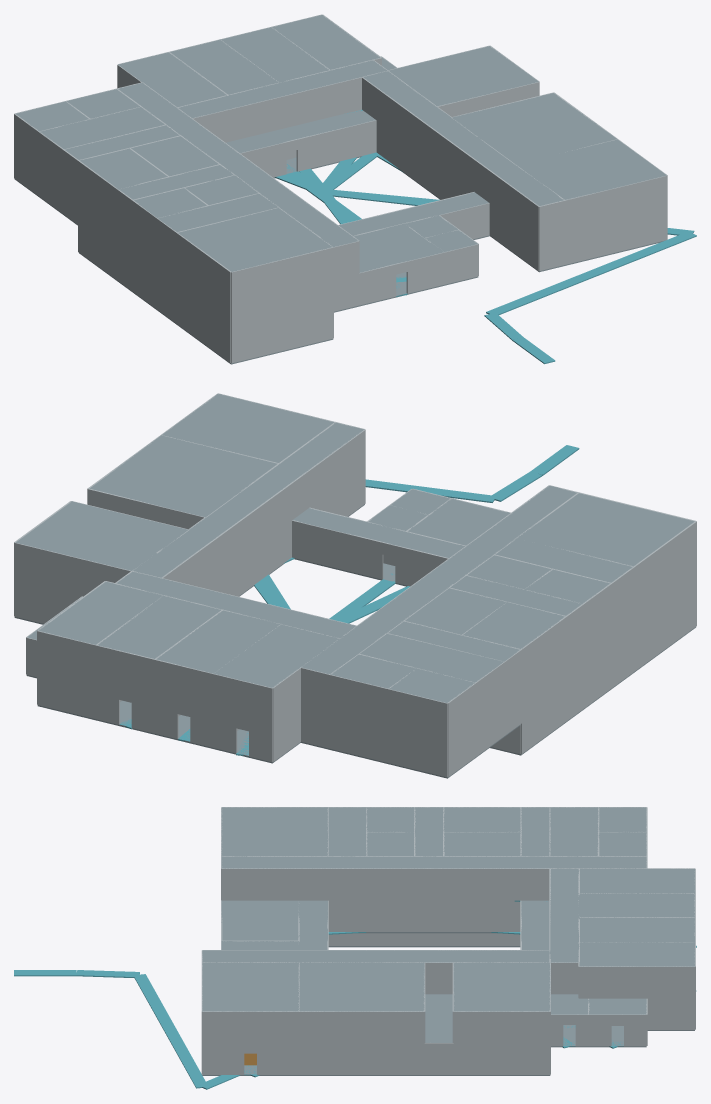
File: academy-open-context.glb
The picture shows the model from 3 angles, top to bottom: view 1: azimuth 30°, elevation 25°; view 2: azimuth 150°, elevation 25°; view 3: azimuth 270°, elevation 25°; orthographic projection. The views are drawn at different scales.
Visible parts, largest first — view 1: Ceiling cap study, Wall upper-east W, Ceiling cap upper-west, Ceiling cap upper-main-stair, Wall upper-north S, Ceiling cap upper-east-stair, Ceiling cap restricted, Ceiling cap upper-east, Wall upper-main-stair S, Wall upper-east-stair S, Wall east-stair S, Wall main-stair S (+50 smaller); view 2: Ceiling cap study, Wall upper-east W, Ceiling cap upper-west, Ceiling cap upper-main-stair, Ceiling cap restricted, Ceiling cap upper-east-stair, Ceiling cap upper-east, Ceiling cap dorm-1, Ceiling cap dorm-2, Ceiling cap dorm-4, Ceiling cap dorm-3, Ceiling cap upper-north (+60 smaller); view 3: Wall upper-west E.001, Ceiling cap study, Wall west E.001, Ceiling cap upper-west, Ceiling cap upper-main-stair, Ceiling cap restricted, Ceiling cap upper-east-stair, Ceiling cap upper-east, Wall study E, Wall lecture E, Wall dorm-4 E, Wall restricted E (+40 smaller).
Part boxes in pixels (bbox=[...]): Ceiling cap study: bbox=[452, 93, 616, 164]; Wall upper-east W: bbox=[362, 77, 539, 238]; Ceiling cap upper-west: bbox=[118, 83, 358, 247]; Ceiling cap upper-main-stair: bbox=[177, 208, 332, 271]; Wall upper-north S: bbox=[192, 75, 369, 142]; Ceiling cap upper-east-stair: bbox=[516, 139, 666, 199]; Ceiling cap restricted: bbox=[388, 46, 538, 106]; Ceiling cap upper-east: bbox=[363, 71, 563, 205]; Wall upper-main-stair S: bbox=[231, 247, 333, 304]; Wall upper-east-stair S: bbox=[565, 175, 667, 232]; Wall east-stair S: bbox=[565, 208, 667, 264]; Wall main-stair S: bbox=[231, 279, 333, 336]; Ceiling cap study: bbox=[90, 435, 277, 517]; Wall upper-east W: bbox=[161, 429, 365, 587]; Ceiling cap upper-west: bbox=[301, 485, 577, 674]; Ceiling cap upper-main-stair: bbox=[517, 493, 694, 566]; Ceiling cap restricted: bbox=[16, 501, 188, 570]; Ceiling cap upper-east-stair: bbox=[162, 393, 334, 462]; Ceiling cap upper-east: bbox=[133, 422, 364, 577]; Ceiling cap dorm-1: bbox=[214, 624, 339, 687]; Ceiling cap dorm-2: bbox=[156, 610, 280, 673]; Ceiling cap dorm-4: bbox=[38, 581, 163, 644]; Ceiling cap dorm-3: bbox=[97, 596, 220, 658]; Ceiling cap upper-north: bbox=[116, 571, 356, 638]; Wall upper-west E.001: bbox=[221, 868, 557, 900]; Ceiling cap study: bbox=[299, 962, 424, 1011]; Wall west E.001: bbox=[328, 900, 520, 931]; Ceiling cap upper-west: bbox=[221, 856, 646, 868]; Ceiling cap upper-main-stair: bbox=[221, 807, 327, 856]; Ceiling cap restricted: bbox=[453, 962, 550, 1011]; Ceiling cap upper-east-stair: bbox=[202, 962, 298, 1011]; Ceiling cap upper-east: bbox=[202, 950, 550, 962]; Wall study E: bbox=[299, 1011, 424, 1043]; Wall lecture E: bbox=[299, 1043, 424, 1074]; Wall dorm-4 E: bbox=[579, 966, 694, 998]; Wall restricted E: bbox=[453, 1011, 550, 1043].
Size of the model in its own units: 53.54 by 10.36 by 70.7.
